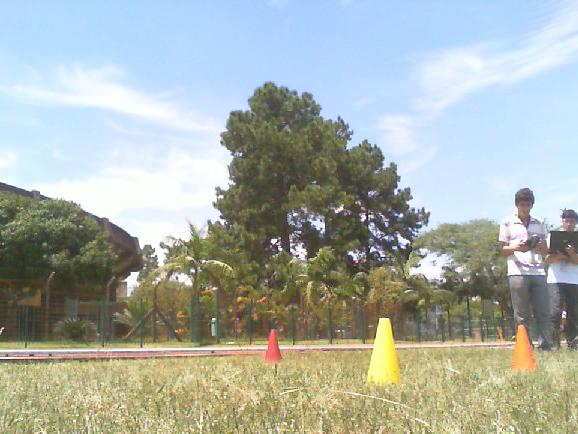0 cone: (364, 318, 403, 386), (510, 324, 538, 372), (264, 328, 283, 362)
